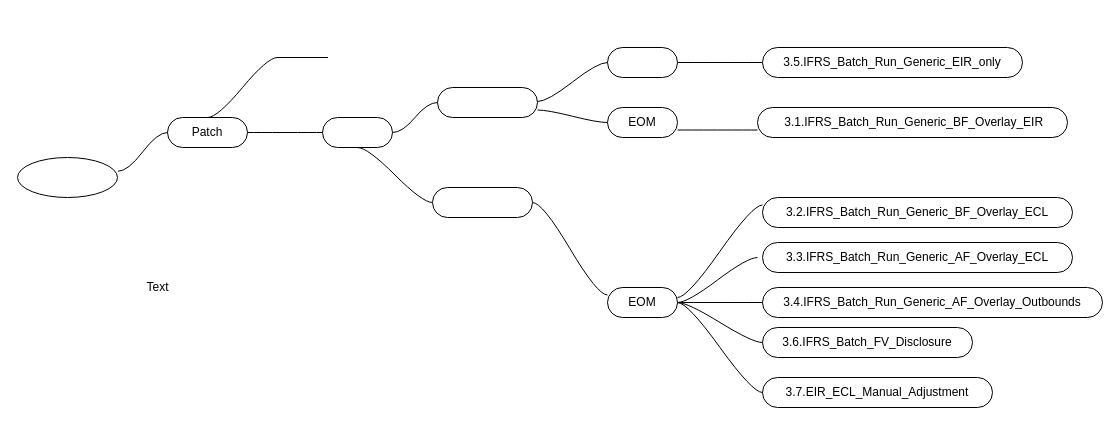
Image size: 1120x425. Some labels were removed from this diagram. The box of each missing label's shape, as (x1, y1, x2, y2) in pixels:
Batch ECL: (432, 186, 532, 218)
Batch EIR: (436, 86, 538, 118)
EOD: (606, 46, 678, 78)
Live: (322, 116, 392, 148)
Staging: (16, 156, 118, 198)
